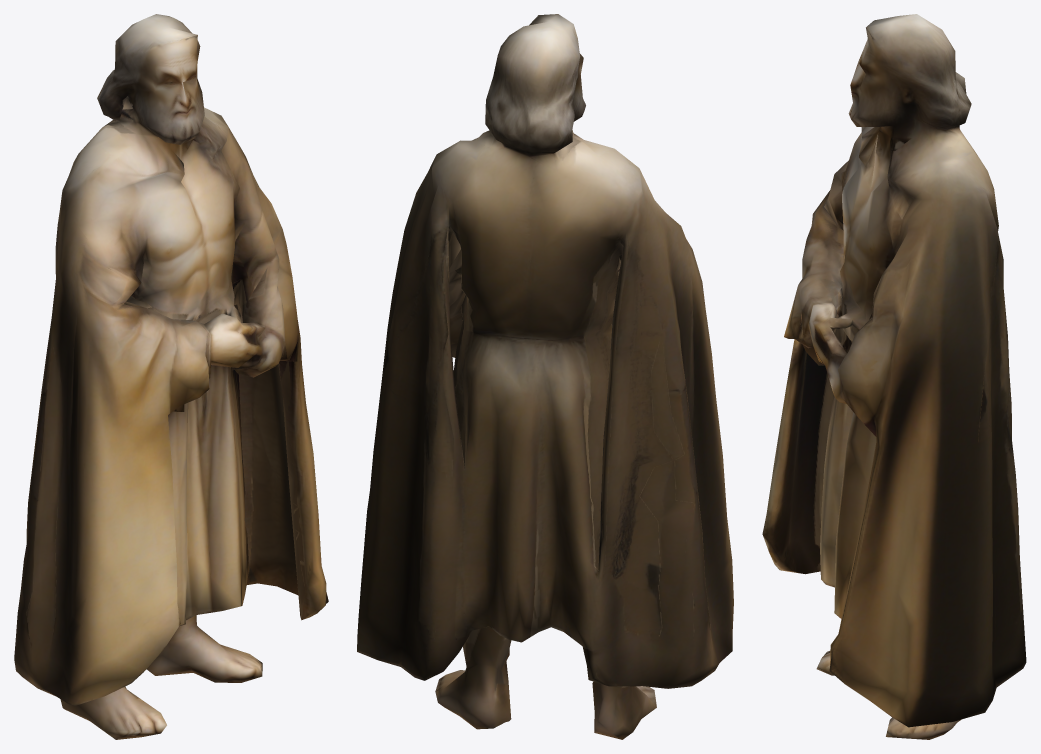
Rendered from leonardo_model.fbx.
3 views of the same model, side by side, from view 1: azimuth 30°, elevation 25°; view 2: azimuth 150°, elevation 25°; view 3: azimuth 270°, elevation 25° (orthographic).
Parts seen in each view (by area): view 1: Mesh1.0; view 2: Mesh1.0; view 3: Mesh1.0.
Boxes of the visible parts, bbox=[...] form: Mesh1.0: bbox=[14, 14, 328, 739]; Mesh1.0: bbox=[357, 14, 733, 739]; Mesh1.0: bbox=[762, 14, 1026, 739].
Size of the model in its own units: 98.76 by 200 by 70.49.
1 material, 1 textured.
